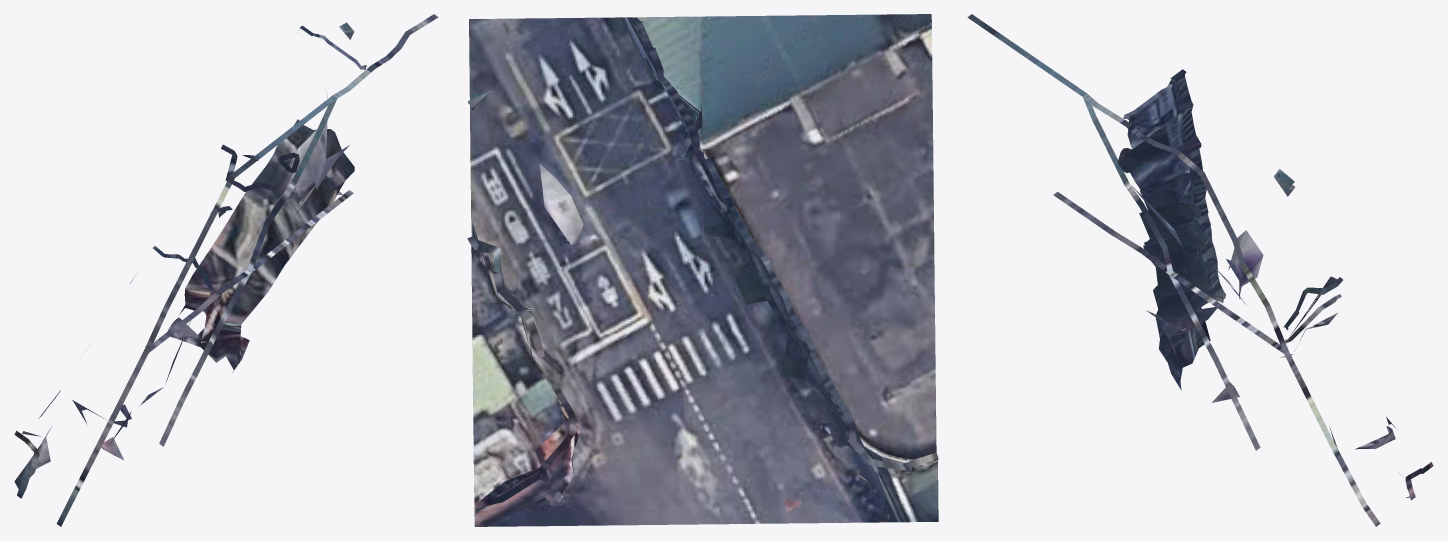
The picture shows the model from 3 angles, left to right: view 1: azimuth 30°, elevation 25°; view 2: azimuth 150°, elevation 25°; view 3: azimuth 270°, elevation 25°; orthographic projection. The views are drawn at different scales.
Bounding box in the file's own units: 40.06 × 37.42 × 36.61.
1 material, 1 textured.
